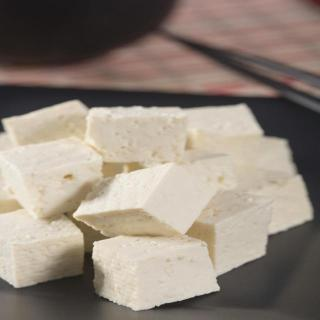Tahu: (2, 92, 311, 303)
